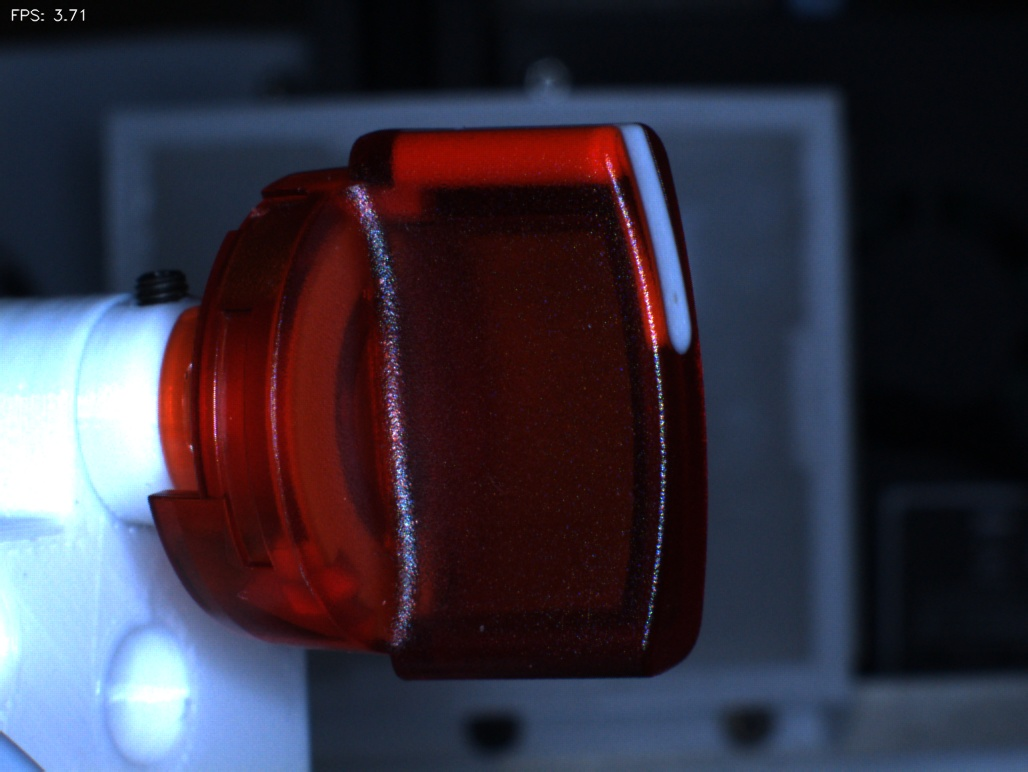PointNoir: (652, 258, 717, 341)
